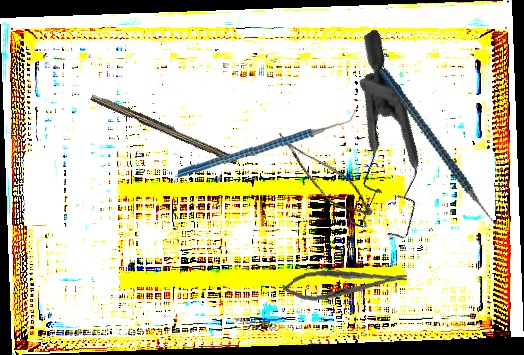Chopper: (378, 46, 512, 250), (177, 99, 358, 185)
Micro Scissor: (259, 131, 385, 223)
Needle Holder: (281, 262, 409, 305)
Scalpel Handle: (88, 91, 241, 165)
Speculum: (266, 28, 484, 259)
